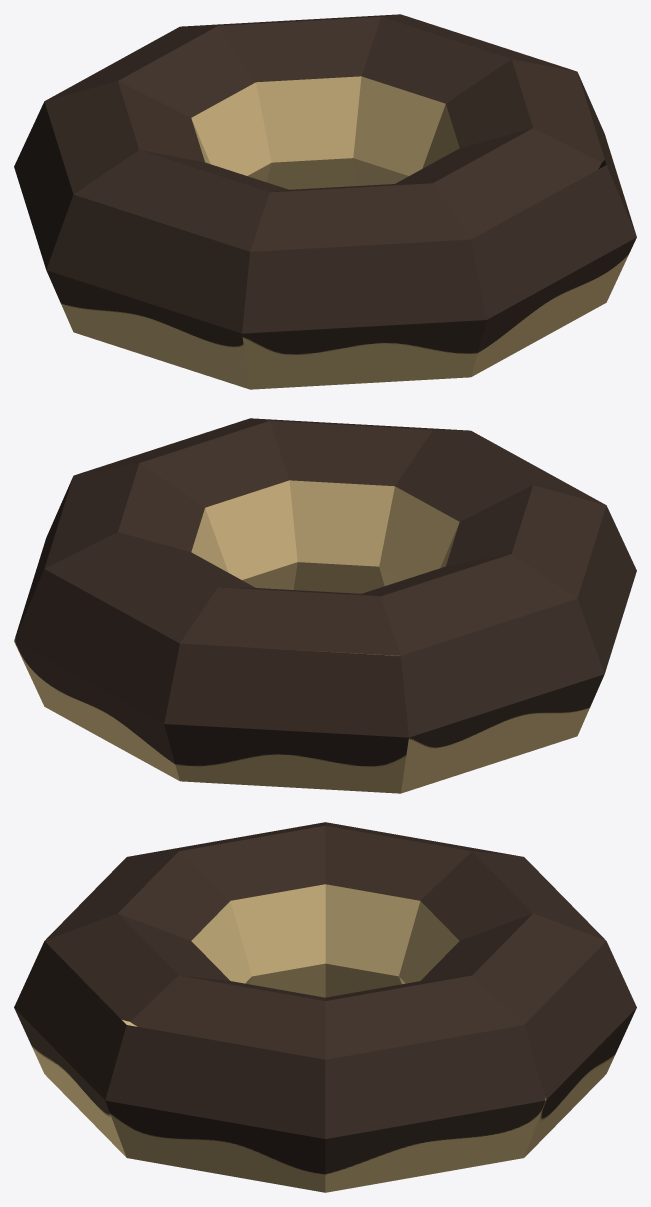
File: Doughnut.obj
3 views of the same model, one above another, from view 1: azimuth 30°, elevation 25°; view 2: azimuth 150°, elevation 25°; view 3: azimuth 270°, elevation 25° (orthographic). The views are drawn at different scales.
Visible parts, largest first — view 1: pTorus1; view 2: pTorus1; view 3: pTorus1.
Boxes of the visible parts, bbox=[...] form: pTorus1: bbox=[14, 14, 636, 389]; pTorus1: bbox=[14, 418, 636, 793]; pTorus1: bbox=[14, 822, 636, 1192].
Bounding box in the file's own units: 3 × 1 × 3.
